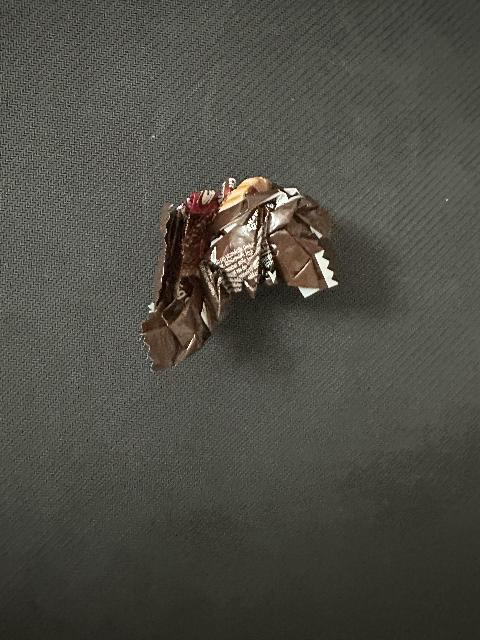Plastik: (140, 181, 337, 370)
